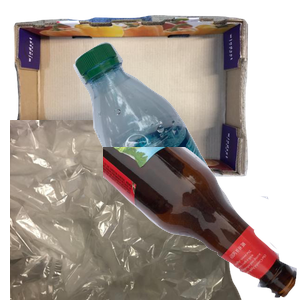cardboard: (11, 13, 251, 182)
glass: (103, 147, 300, 300)
plastic: (71, 39, 300, 219)
trash: (10, 120, 244, 300)
